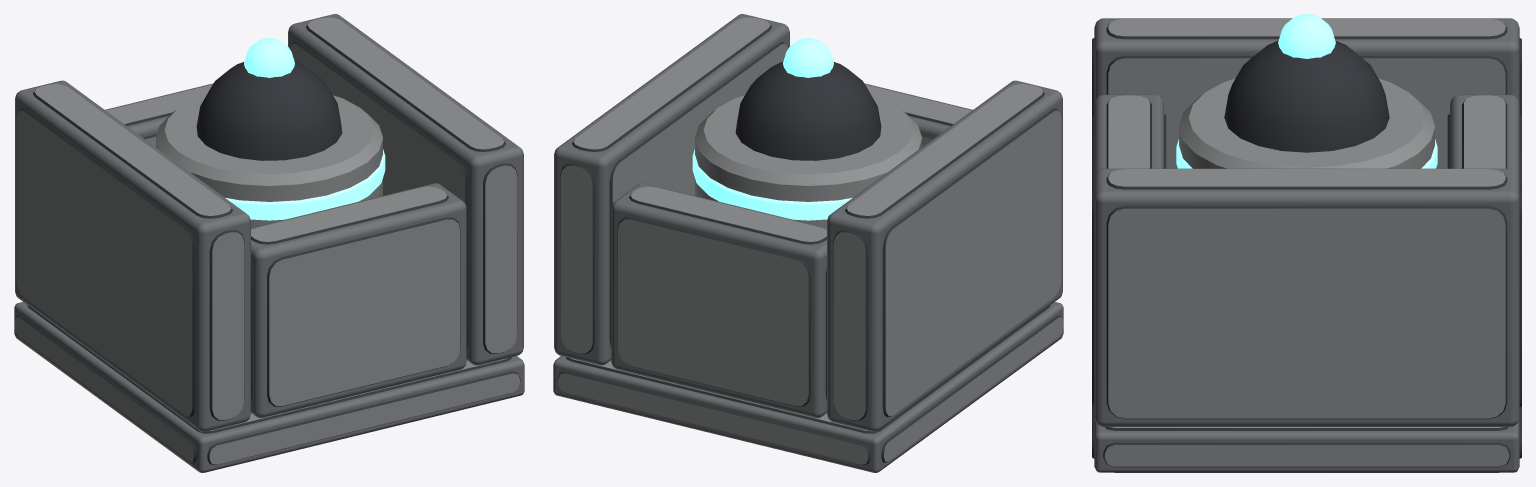
The model's file is R4X_DeployableShieldGenerator.glb.
3 renders of one model, left to right at view 1: azimuth 30°, elevation 25°; view 2: azimuth 150°, elevation 25°; view 3: azimuth 270°, elevation 25°, orthographic. The views are drawn at different scales.
Visible parts, largest first — view 1: R4X_DeployableShieldGenerator_Body, R4X_DeployableShieldGenerator_Payload; view 2: R4X_DeployableShieldGenerator_Body, R4X_DeployableShieldGenerator_Payload; view 3: R4X_DeployableShieldGenerator_Body, R4X_DeployableShieldGenerator_Payload.
Part boxes in pixels (left/top/right/bottom): R4X_DeployableShieldGenerator_Body: left=14, top=14, right=524, bottom=472; R4X_DeployableShieldGenerator_Payload: left=156, top=38, right=385, bottom=227; R4X_DeployableShieldGenerator_Body: left=553, top=14, right=1063, bottom=472; R4X_DeployableShieldGenerator_Payload: left=692, top=38, right=921, bottom=227; R4X_DeployableShieldGenerator_Body: left=1092, top=18, right=1521, bottom=472; R4X_DeployableShieldGenerator_Payload: left=1176, top=14, right=1437, bottom=168.
Size of the model in its own units: 0.52 by 0.495 by 0.52.
